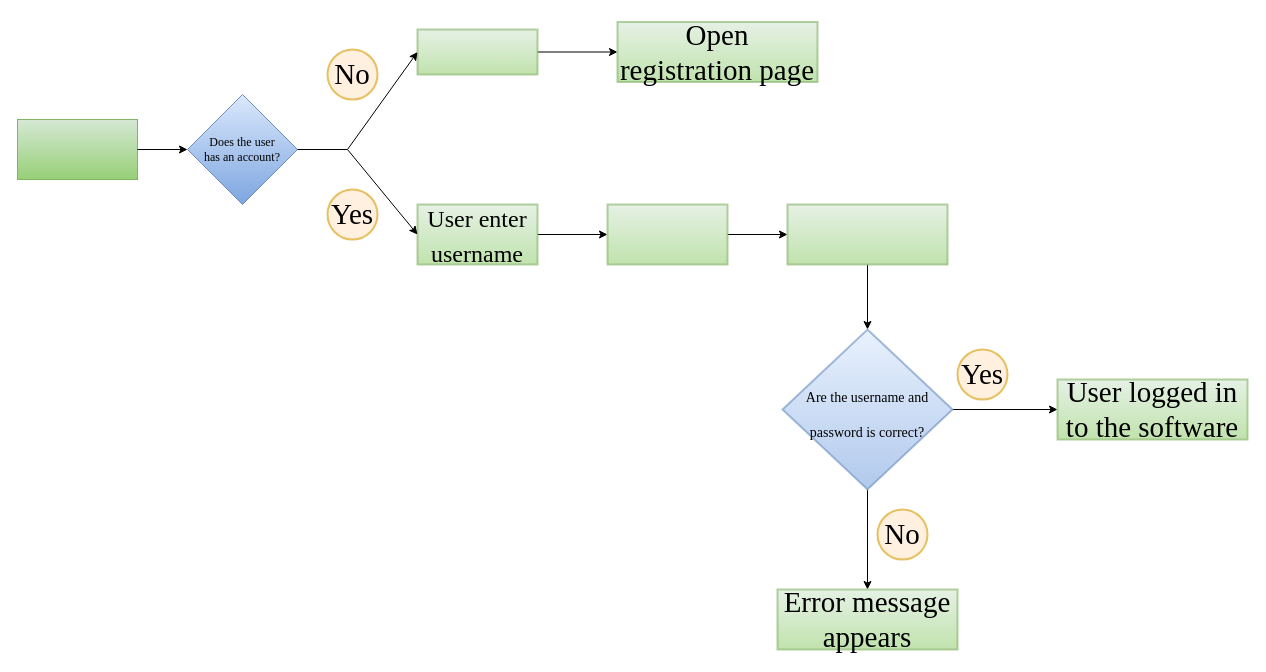
The diagram is 1266 pixels wide and 672 high, and some of its shapes have lost their labels. Here are the shapes that lost their labels. From the top down, the box of each, then its label:
(416, 28, 538, 75): Sign up
(16, 118, 138, 180): User enter to the app
(606, 203, 728, 265): User enter password
(786, 203, 948, 265): User clicks on the login button
